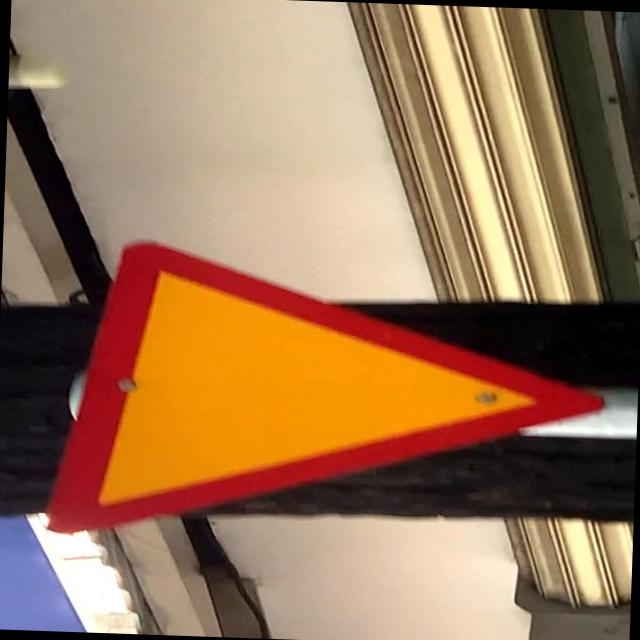W-208: (44, 237, 610, 554)
